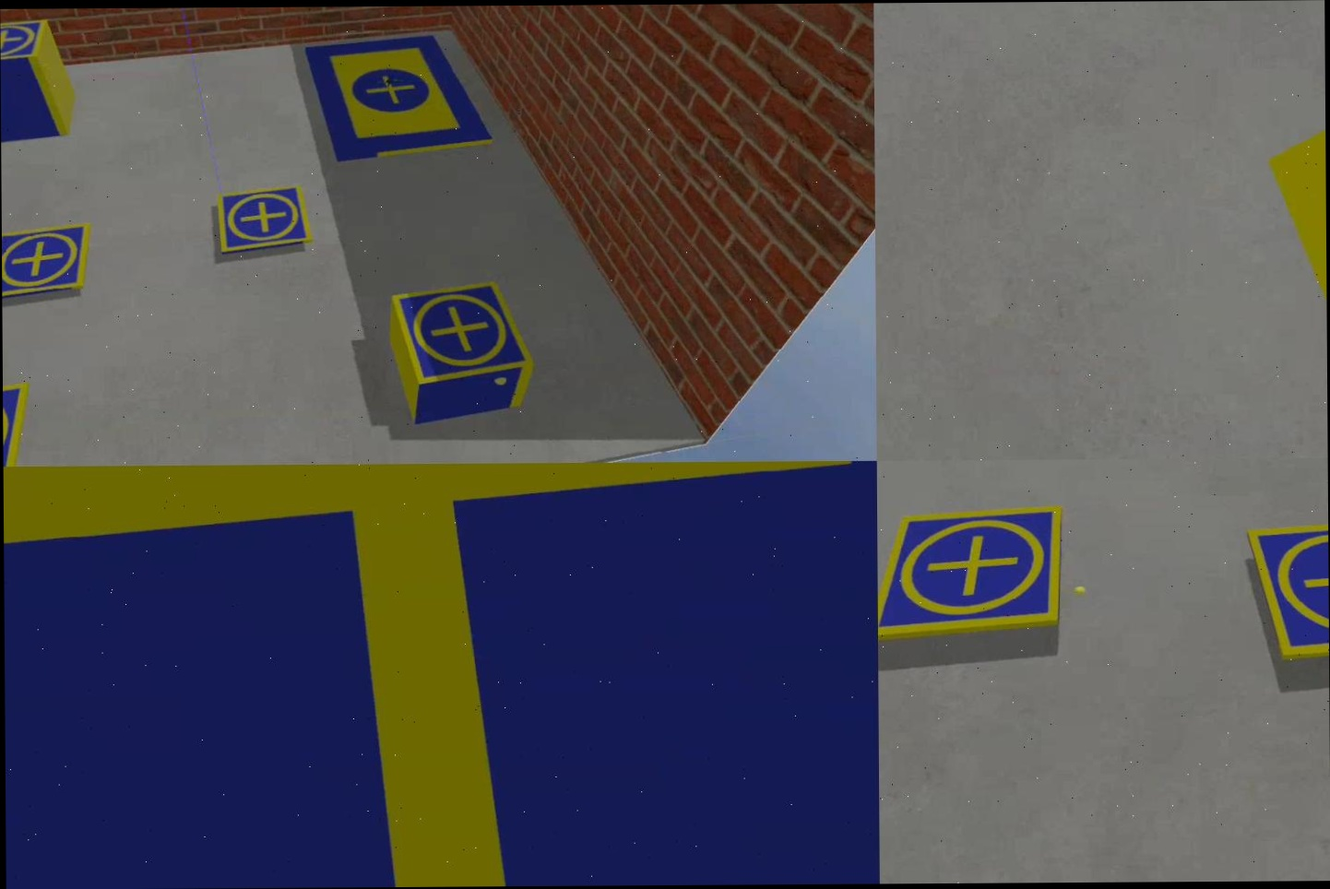large_base: (304, 32, 495, 166)
small_base: (4, 461, 880, 889), (877, 504, 1067, 645), (390, 279, 538, 387), (1245, 517, 1328, 666), (2, 220, 89, 305), (210, 188, 311, 259), (0, 18, 49, 66)
